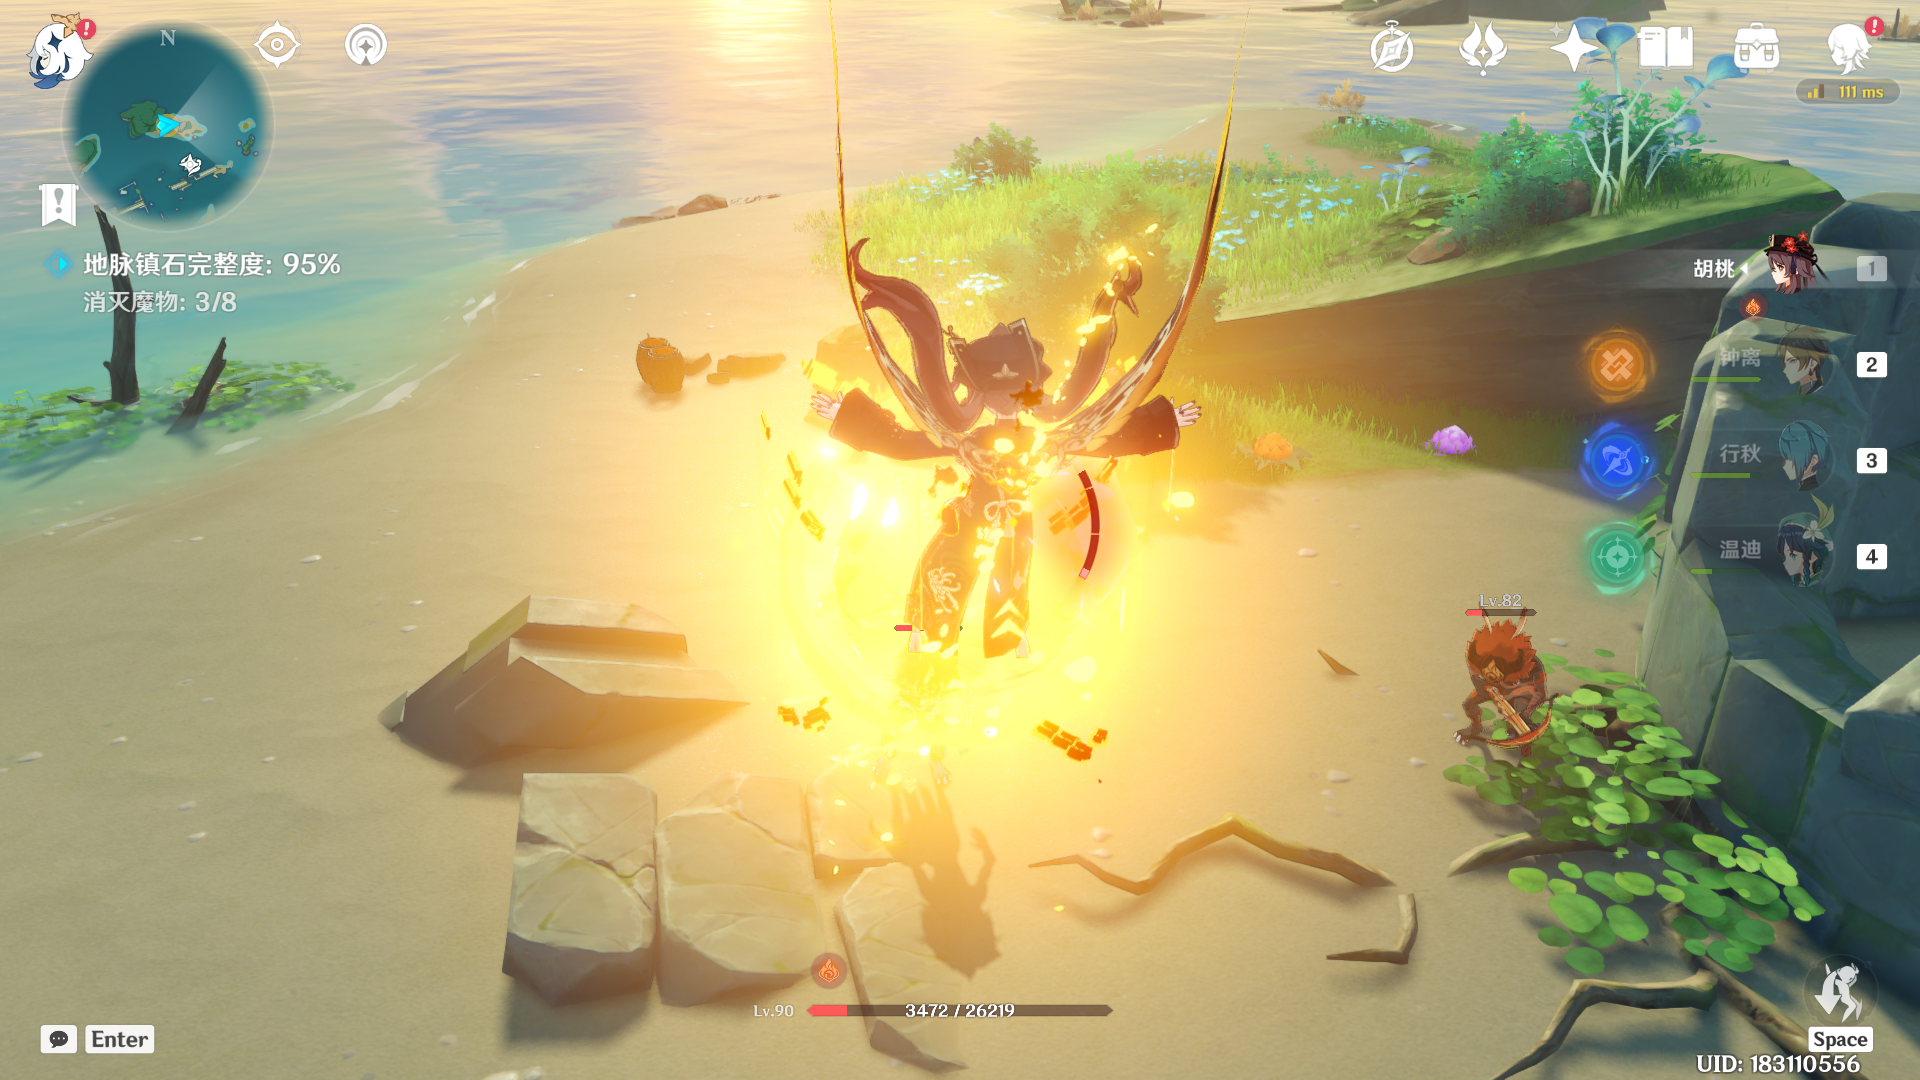character: (744, 219, 1244, 719)
